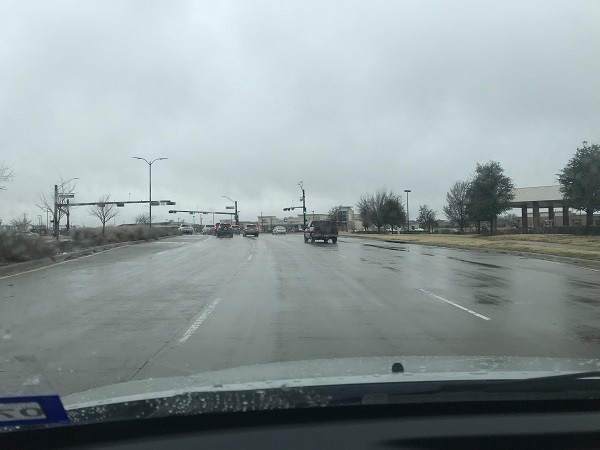car: (218, 222, 233, 235), (241, 221, 257, 233)
truck: (305, 220, 340, 246)
